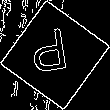P_S: (33, 27, 77, 83)
